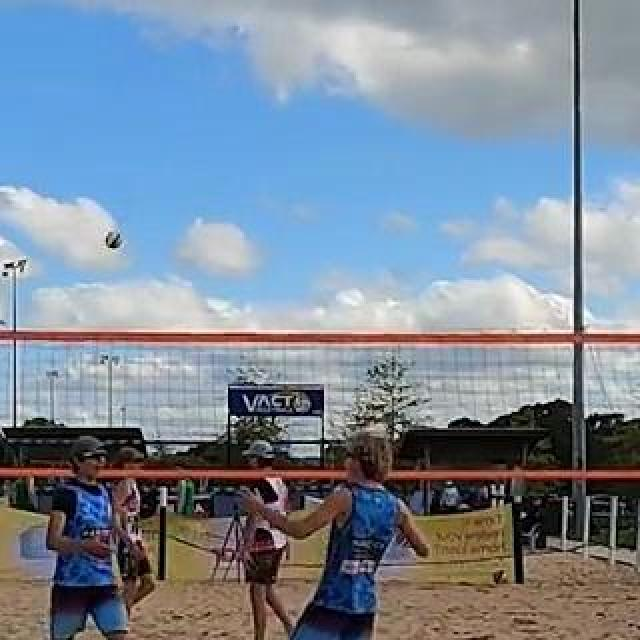volleyball: (104, 233, 122, 251), (493, 569, 509, 585)
